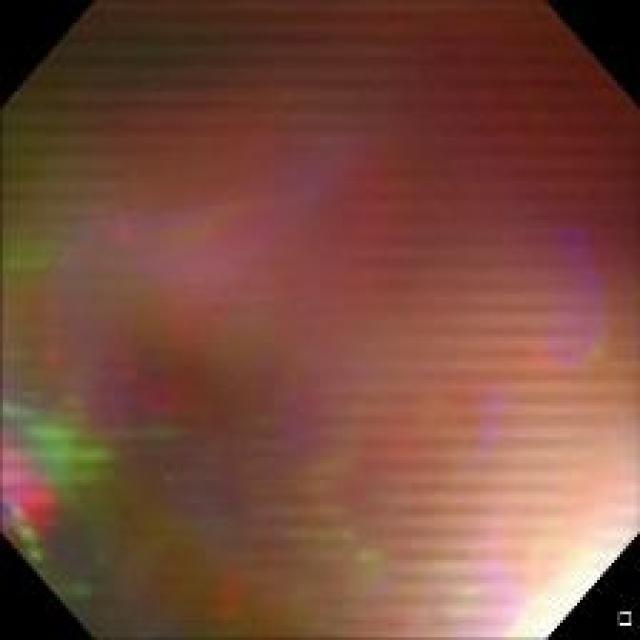color misalignment: (14, 6, 628, 625)
